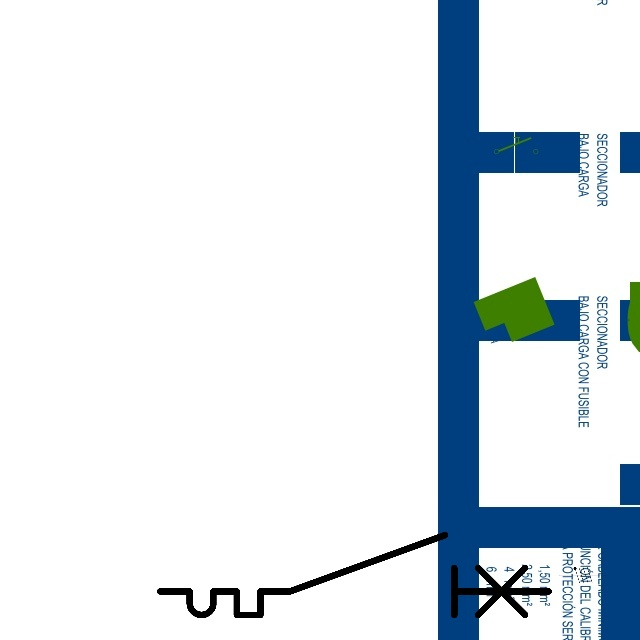interruptor_termomagnetico: (150, 525, 558, 625)
